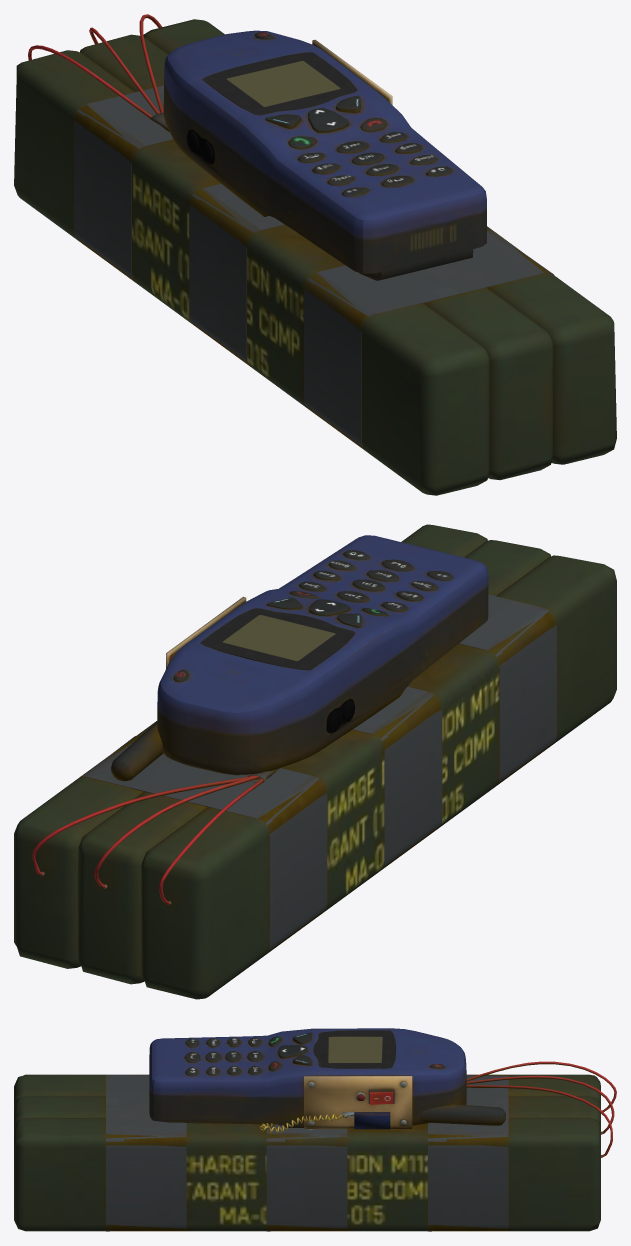
The picture shows the model from 3 angles, top to bottom: view 1: azimuth 30°, elevation 25°; view 2: azimuth 150°, elevation 25°; view 3: azimuth 270°, elevation 25°; orthographic projection. The views are drawn at different scales.
Visible parts, largest first — view 1: C4_Lowpoly (×3), Nokia_Lowpoly, DuctTape_Lowpoly, Screen_Lowpoly, Cables_Lowpoly; view 2: C4_Lowpoly (×3), Nokia_Lowpoly, DuctTape_Lowpoly, Screen_Lowpoly, Cables_Lowpoly; view 3: C4_Lowpoly (×3), DuctTape_Lowpoly, Nokia_Lowpoly, ControlPlate_Lowpoly, Screen_Lowpoly, Cables_Lowpoly, Cable_Lowpoly.
Part boxes in pixels (box(x1,y1,x2,y2)): C4_Lowpoly (×3): box(14, 19, 616, 495); Nokia_Lowpoly: box(163, 30, 486, 280); DuctTape_Lowpoly: box(74, 85, 553, 447); Screen_Lowpoly: box(202, 52, 357, 115); Cables_Lowpoly: box(28, 14, 163, 124); C4_Lowpoly (×3): box(14, 524, 616, 999); Nokia_Lowpoly: box(111, 535, 488, 781); DuctTape_Lowpoly: box(82, 594, 556, 951); Screen_Lowpoly: box(200, 608, 355, 670); Cables_Lowpoly: box(32, 775, 267, 905); C4_Lowpoly (×3): box(14, 1074, 600, 1231); DuctTape_Lowpoly: box(106, 1074, 508, 1231); Nokia_Lowpoly: box(149, 1028, 505, 1127); ControlPlate_Lowpoly: box(304, 1076, 412, 1129); Screen_Lowpoly: box(313, 1030, 395, 1068); Cables_Lowpoly: box(466, 1061, 616, 1157); Cable_Lowpoly: box(259, 1114, 347, 1133).
Bounding box in the file's own units: 1.2 × 1.28 × 4.57.
Materials: 2 (2 with a texture image).
